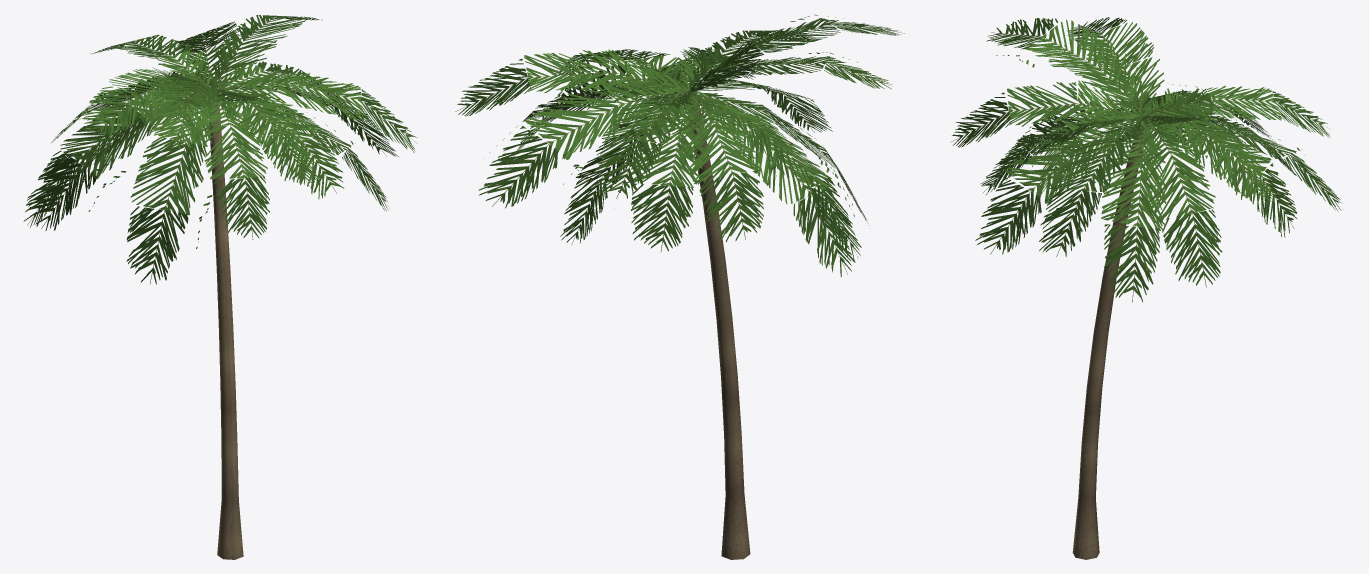
The model's file is near.glb.
3 renders of one model, left to right at view 1: azimuth 30°, elevation 25°; view 2: azimuth 150°, elevation 25°; view 3: azimuth 270°, elevation 25°, orthographic. The views are drawn at different scales.
Parts seen in each view (by area): view 1: palm_02; view 2: palm_02; view 3: palm_02.
Boxes of the visible parts, x1,y1,x2,y2 form: palm_02: [23, 15, 417, 559]; palm_02: [455, 14, 904, 559]; palm_02: [950, 17, 1343, 559].
Size of the model in its own units: 10.63 by 14.17 by 10.68.
Materials: 2 (2 with a texture image).
